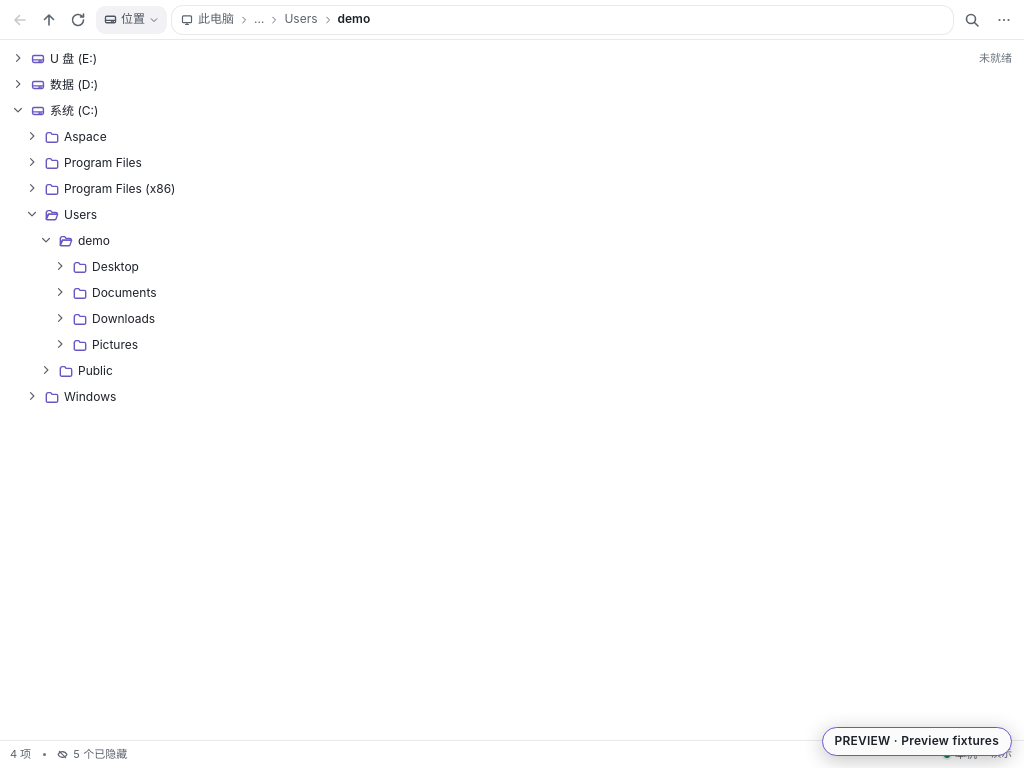
file browser › filters the current folder in narrow tree view
Click the text "Desktop": click(115, 266) [92, 259, 139, 274]
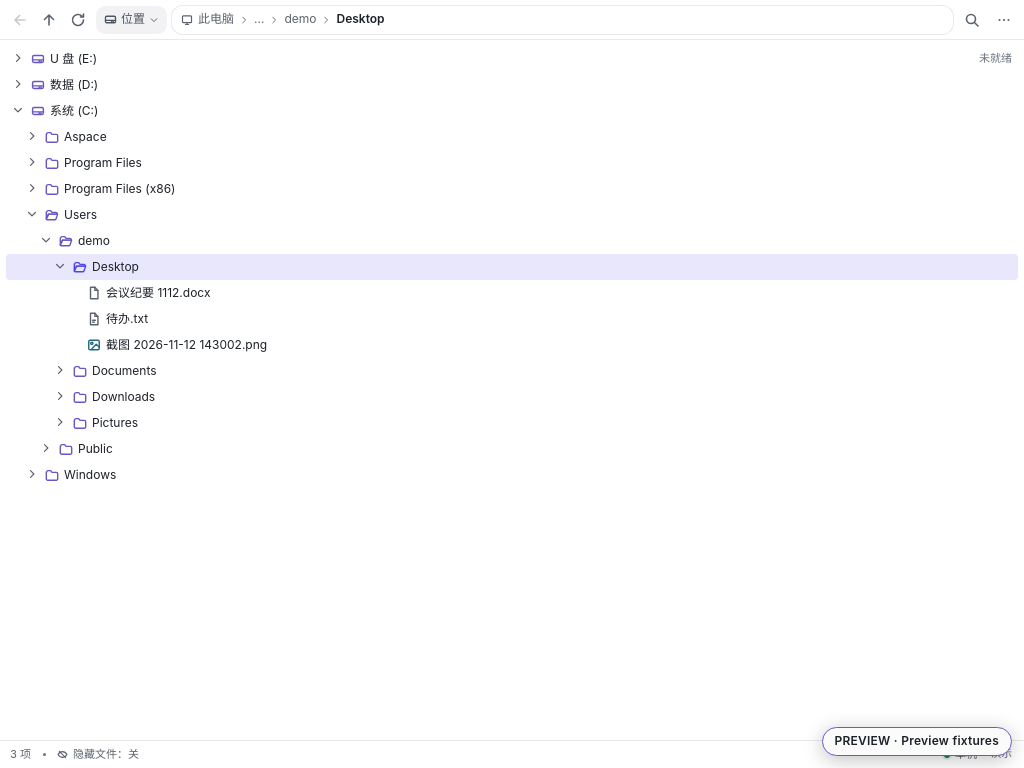
Check: the text "待办.txt" is shown, box [106, 311, 148, 326]
Click the button named "筛选": click(972, 20) [958, 6, 986, 34]
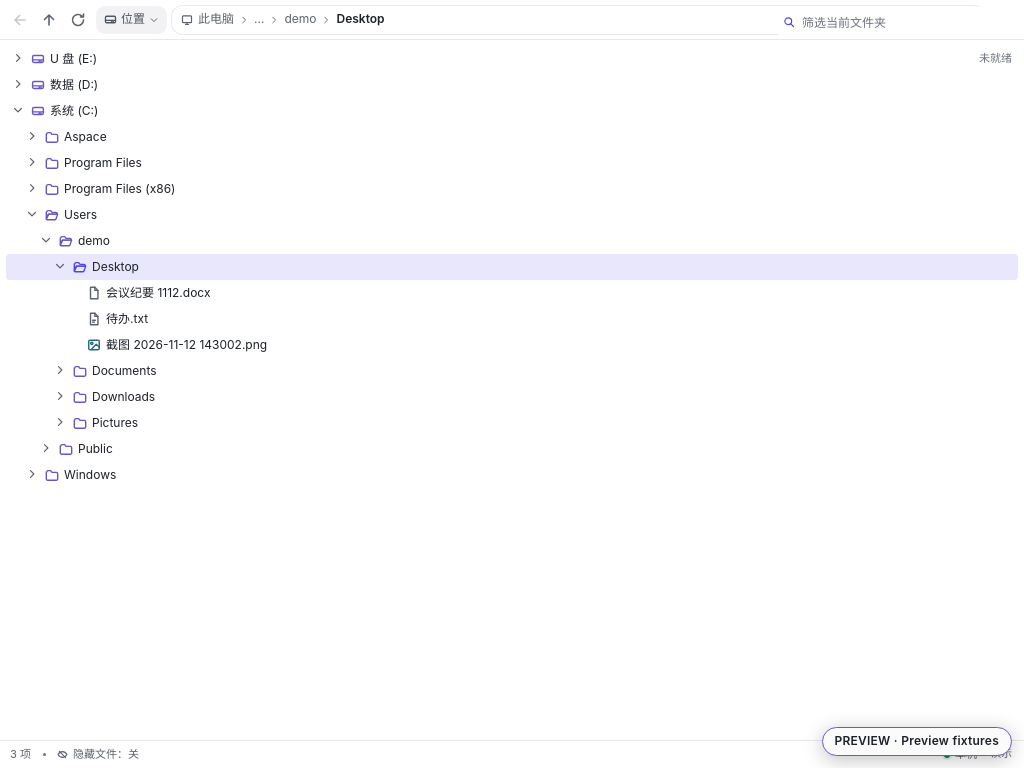
In the field labelled "筛选当前文件夹": (894, 22) [774, 7, 1014, 37], type "待办"
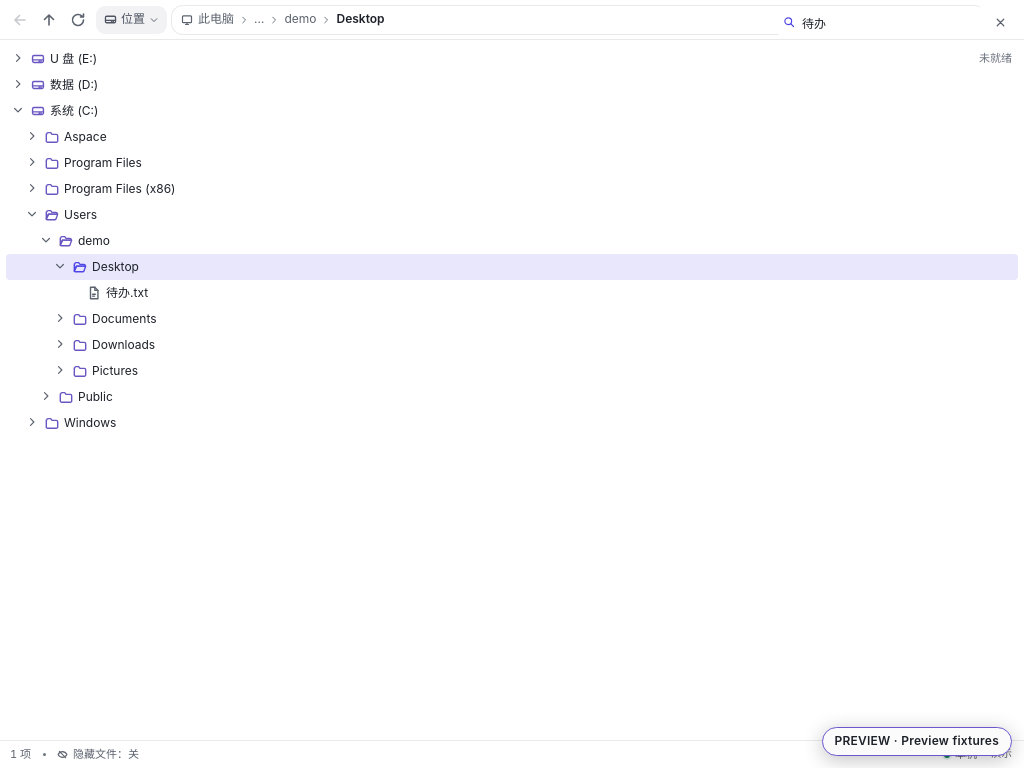
Check: the text "待办.txt" is shown, box [106, 285, 148, 300]
Check: the text "会议纪要 1112.docx" is gone
Press Escape in the field named "筛选当前文件夹", box [774, 7, 1014, 37]
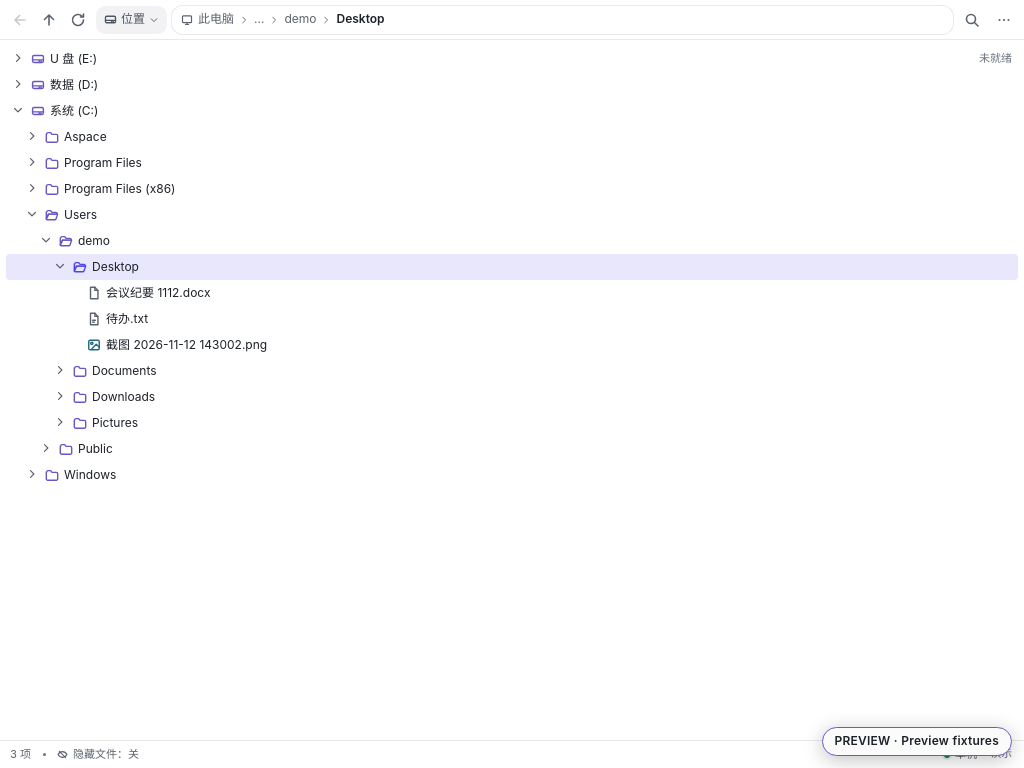
Check: the text "会议纪要 1112.docx" is shown, box [106, 285, 210, 300]
